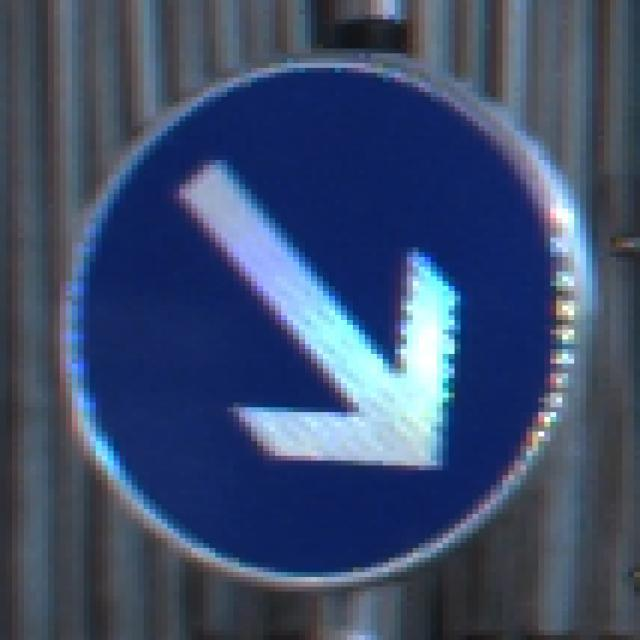compulsary keep right: (59, 52, 593, 592)
